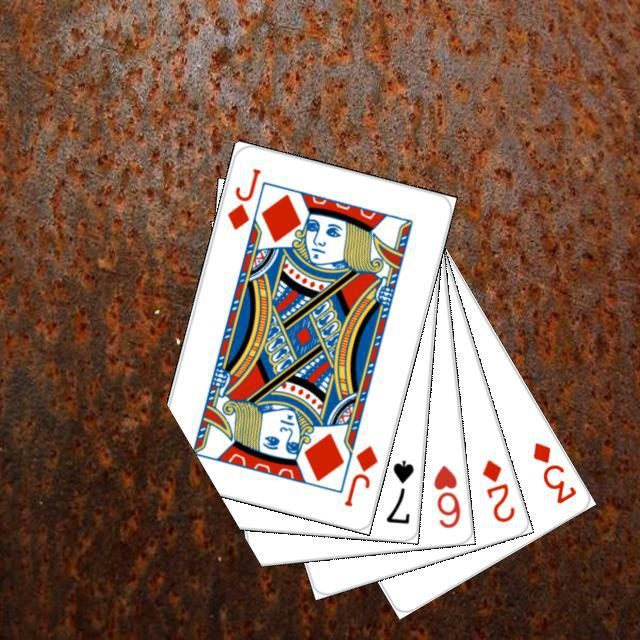2d: (477, 454, 517, 525)
3d: (527, 437, 578, 506)
6h: (429, 460, 462, 530)
7s: (381, 455, 416, 525)
Jd: (338, 440, 380, 509), (222, 163, 263, 232)
